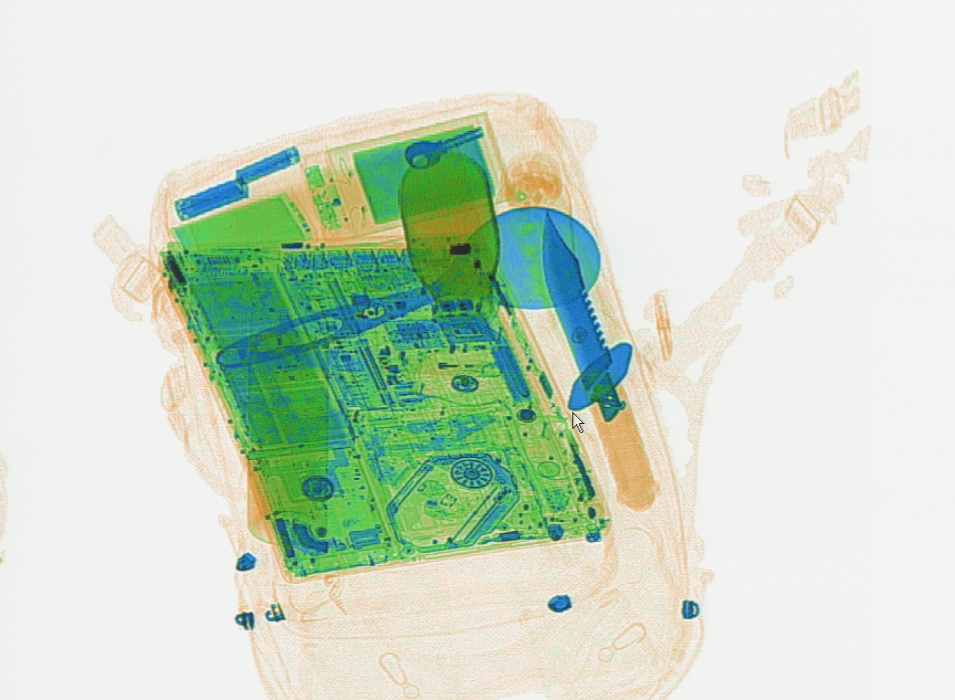knife: (537, 204, 658, 512)
pressure: (236, 333, 335, 544)
